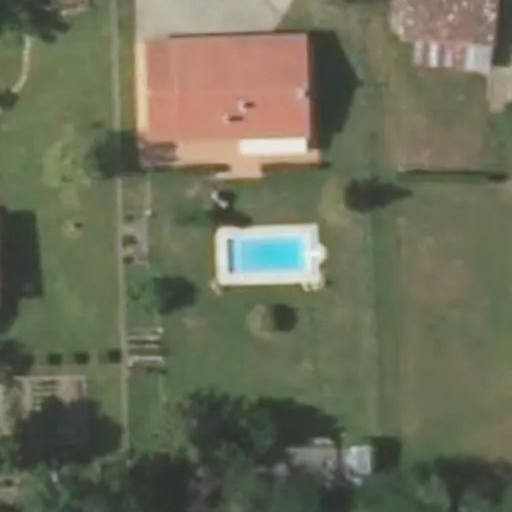pool: (208, 223, 302, 260)
